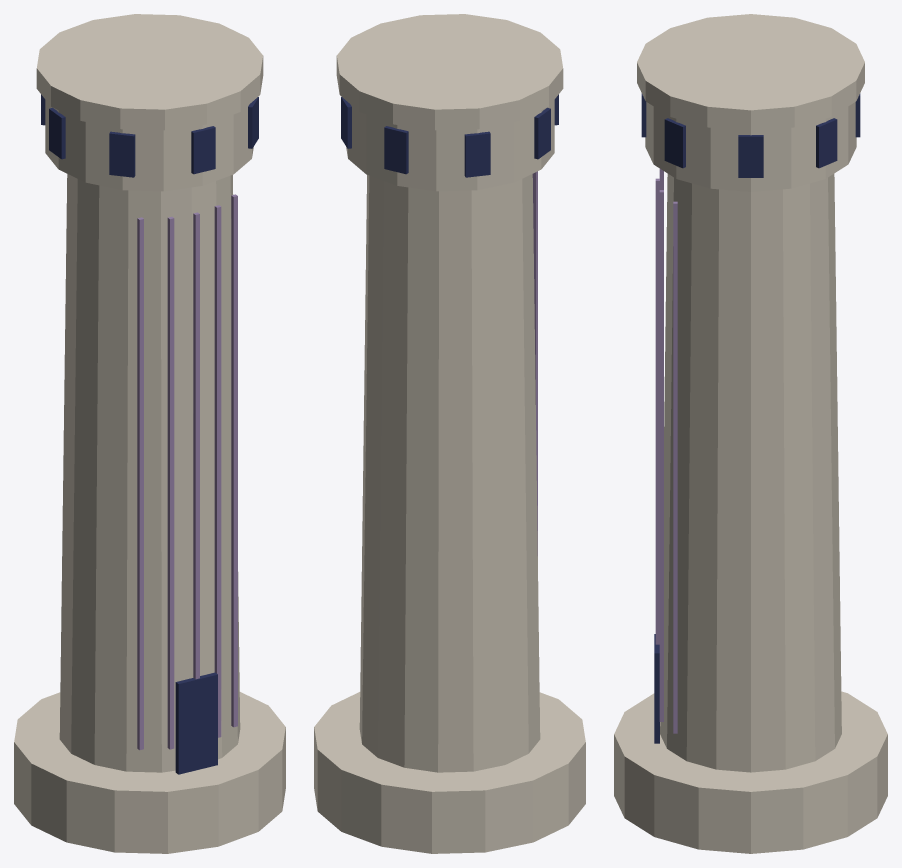
Rendered from sfv2_coit_tower.glb.
3 views of the same model, side by side, from view 1: azimuth 30°, elevation 25°; view 2: azimuth 150°, elevation 25°; view 3: azimuth 270°, elevation 25° (orthographic).
Parts seen in each view (by area): view 1: sfv2_coit_tower__sf_coit_concrete, sfv2_coit_tower__sf_lavender_trim, sfv2_coit_tower__sf_midnight_blue; view 2: sfv2_coit_tower__sf_coit_concrete, sfv2_coit_tower__sf_midnight_blue, sfv2_coit_tower__sf_lavender_trim; view 3: sfv2_coit_tower__sf_coit_concrete, sfv2_coit_tower__sf_lavender_trim, sfv2_coit_tower__sf_midnight_blue.
Part boxes in pixels (box(x1,y1,x2,y2)): sfv2_coit_tower__sf_coit_concrete: box(14, 14, 285, 853); sfv2_coit_tower__sf_lavender_trim: box(137, 194, 237, 750); sfv2_coit_tower__sf_midnight_blue: box(41, 94, 258, 774); sfv2_coit_tower__sf_coit_concrete: box(314, 14, 585, 853); sfv2_coit_tower__sf_midnight_blue: box(341, 94, 558, 177); sfv2_coit_tower__sf_lavender_trim: box(532, 171, 537, 555); sfv2_coit_tower__sf_coit_concrete: box(614, 14, 887, 853); sfv2_coit_tower__sf_lavender_trim: box(655, 169, 677, 733); sfv2_coit_tower__sf_midnight_blue: box(641, 93, 860, 743).
Size of the model in its own units: 13.31 by 39.37 by 13.31.
